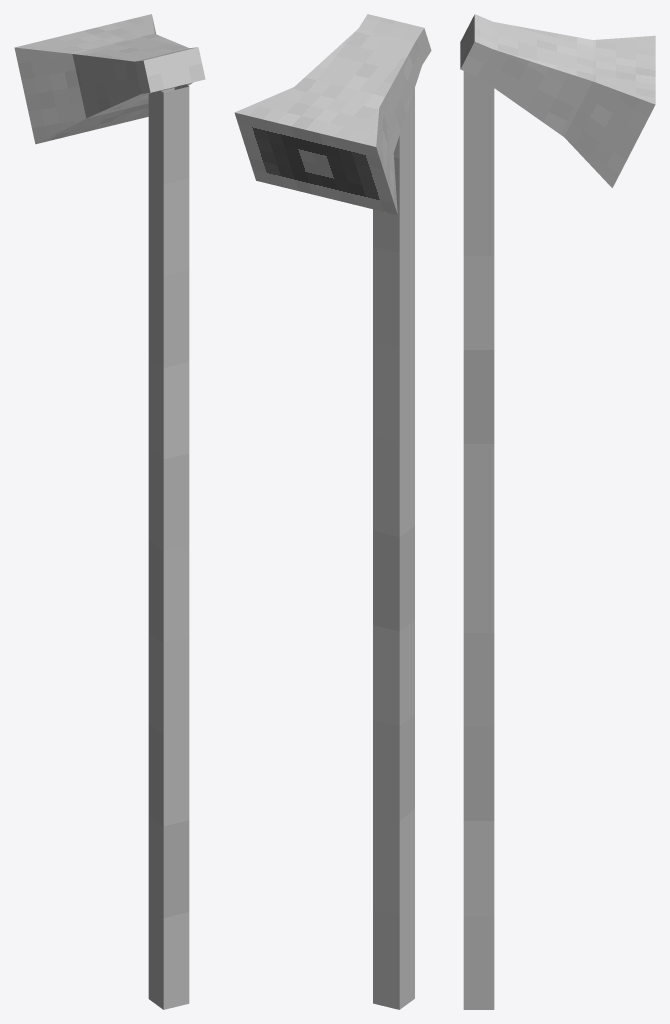
The model's file is speaker_standing.obj.
3 renders of one model, left to right at view 1: azimuth 30°, elevation 25°; view 2: azimuth 150°, elevation 25°; view 3: azimuth 270°, elevation 25°, orthographic. The views are drawn at different scales.
Parts seen in each view (by area): view 1: mesh; view 2: mesh; view 3: mesh.
Part boxes in pixels (left/top/right/bottom): mesh: left=14, top=14, right=205, bottom=1009; mesh: left=234, top=14, right=431, bottom=1009; mesh: left=460, top=14, right=655, bottom=1009.
Size of the model in its own units: 0.5 by 3.3 by 0.5978.
1 material, 1 textured.
